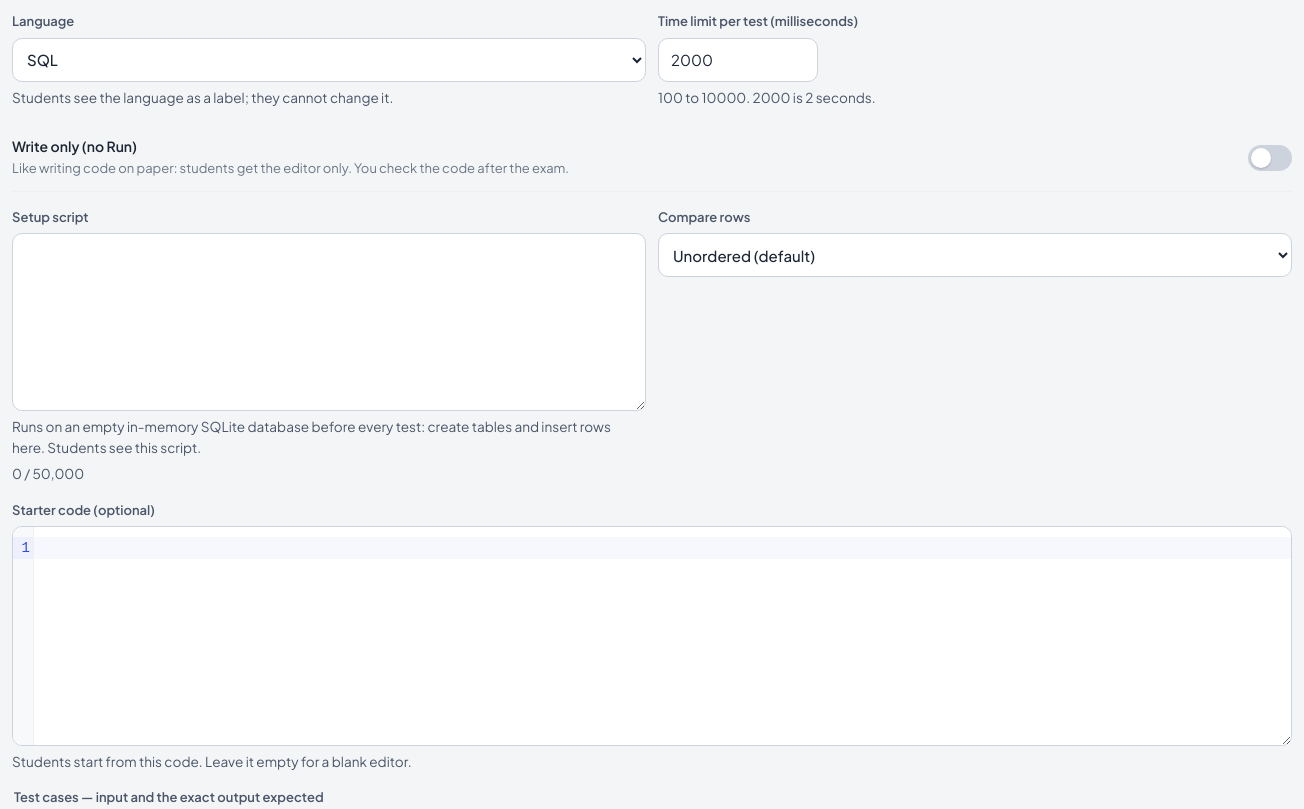
Test: multi-language question editor › counts setup characters and flags the limit
Step 1. Click the text box labelled "Setup script" → (329, 322), box left=12, top=233, right=646, bottom=411
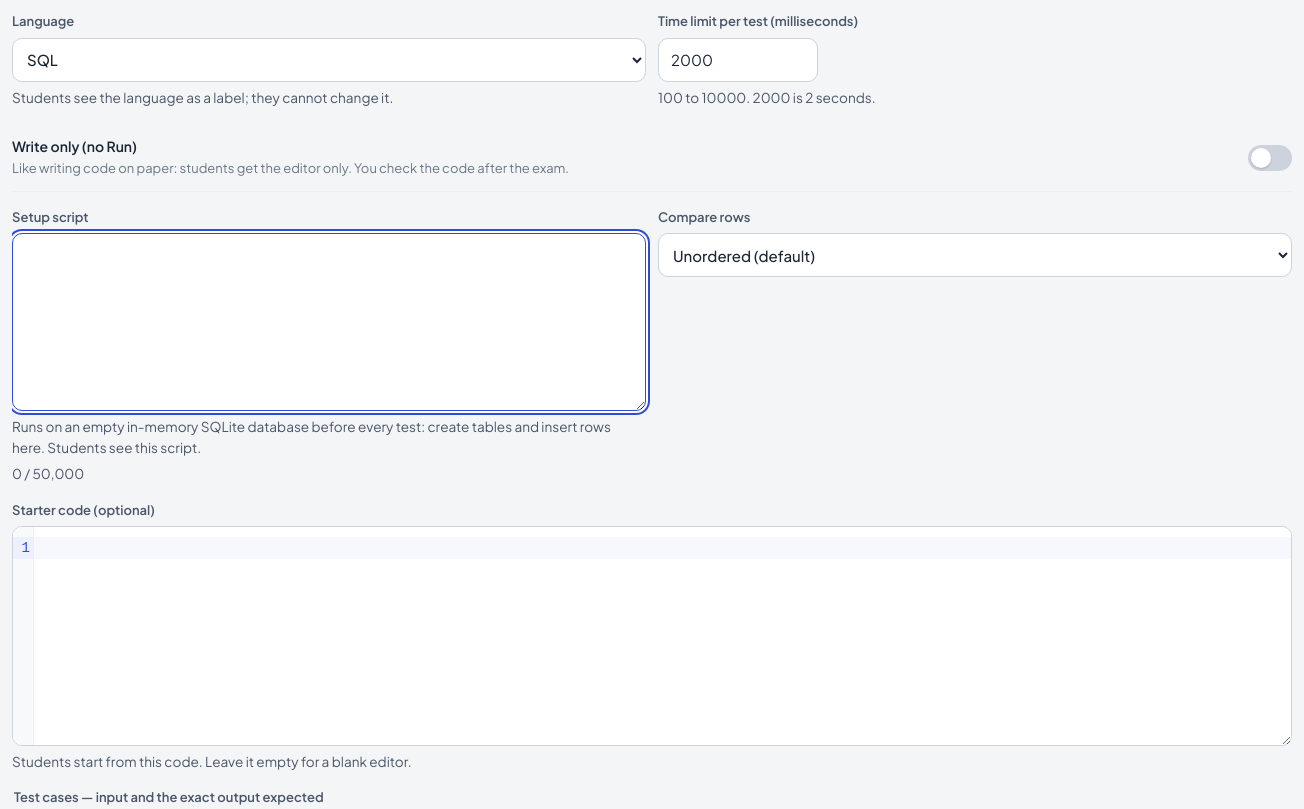
Step 2. Type keys "create table t(a);"
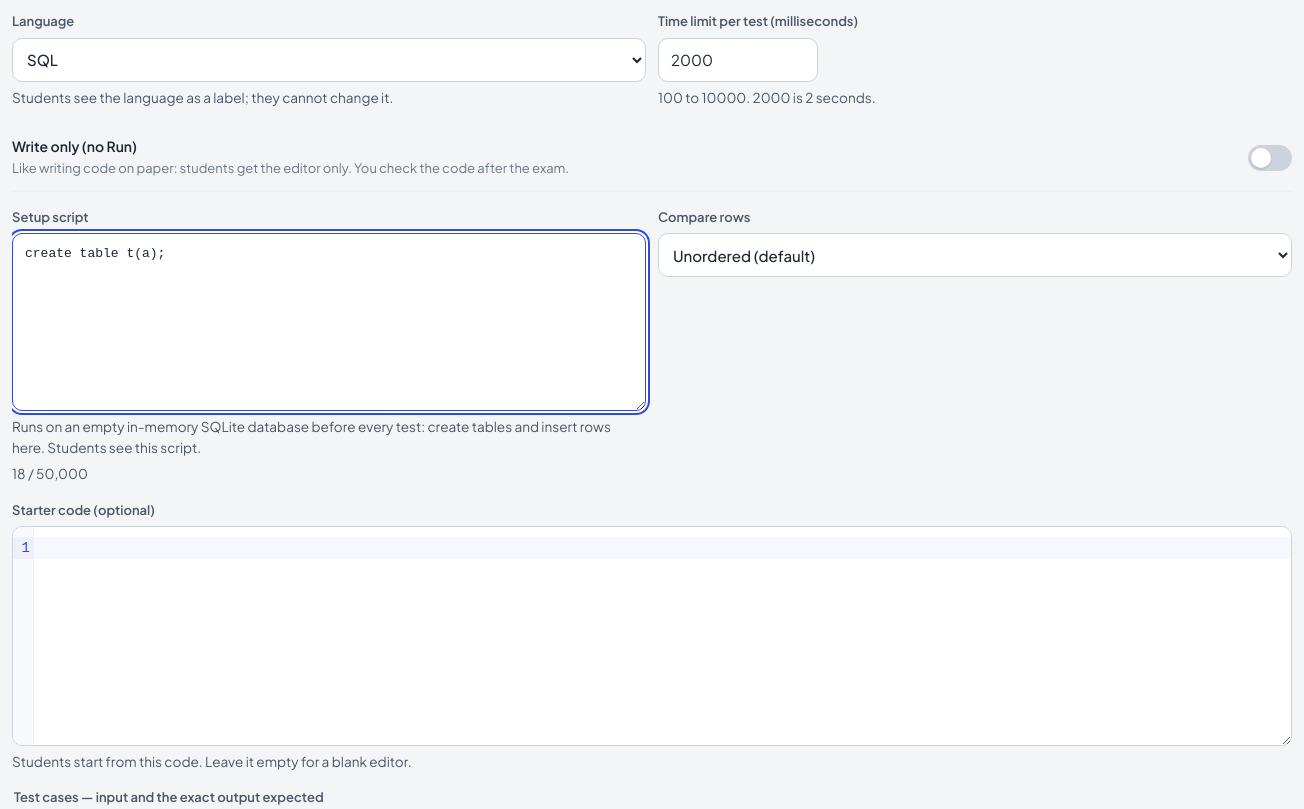
Expected: the text "18 / 50,000" is shown, left=12, top=465, right=88, bottom=482
